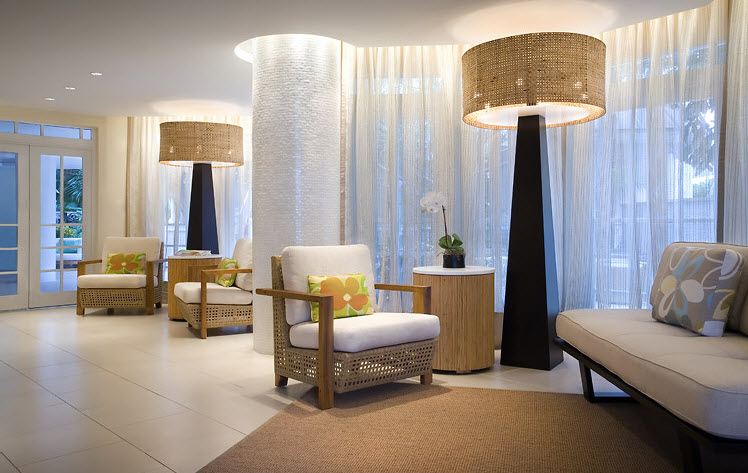chair: (555, 245, 748, 460), (258, 251, 434, 415), (177, 237, 254, 341), (79, 234, 161, 318)
